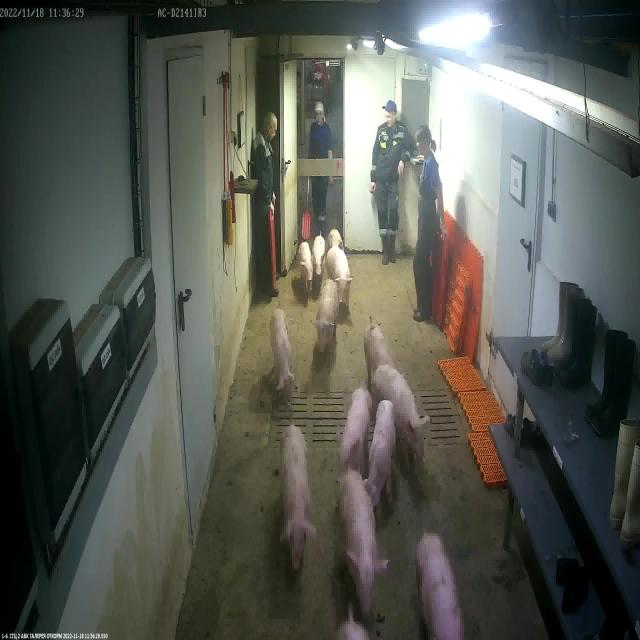pig: (341, 471, 388, 625), (373, 367, 428, 469), (416, 533, 466, 640), (281, 425, 313, 576), (366, 400, 394, 511), (339, 389, 370, 467), (314, 279, 339, 352), (275, 309, 294, 401), (328, 246, 352, 302), (364, 329, 392, 371), (312, 231, 325, 275), (300, 242, 312, 289), (328, 229, 343, 247)
